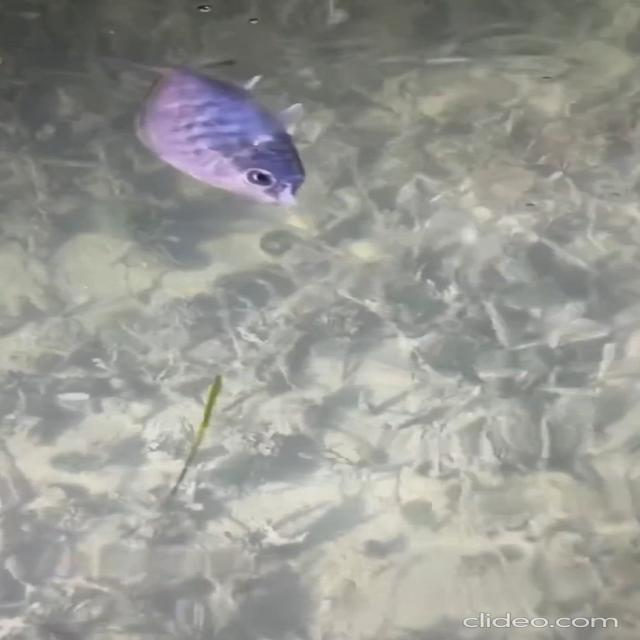fish: (120, 55, 358, 223)
